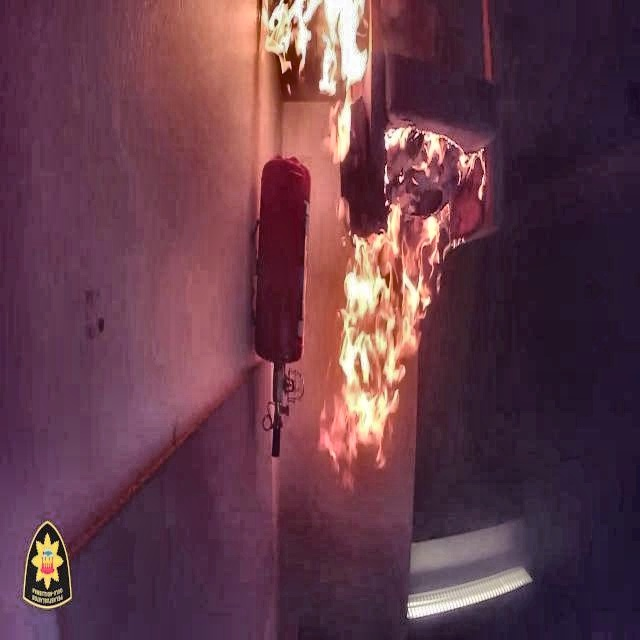fire: (252, 0, 497, 463)
